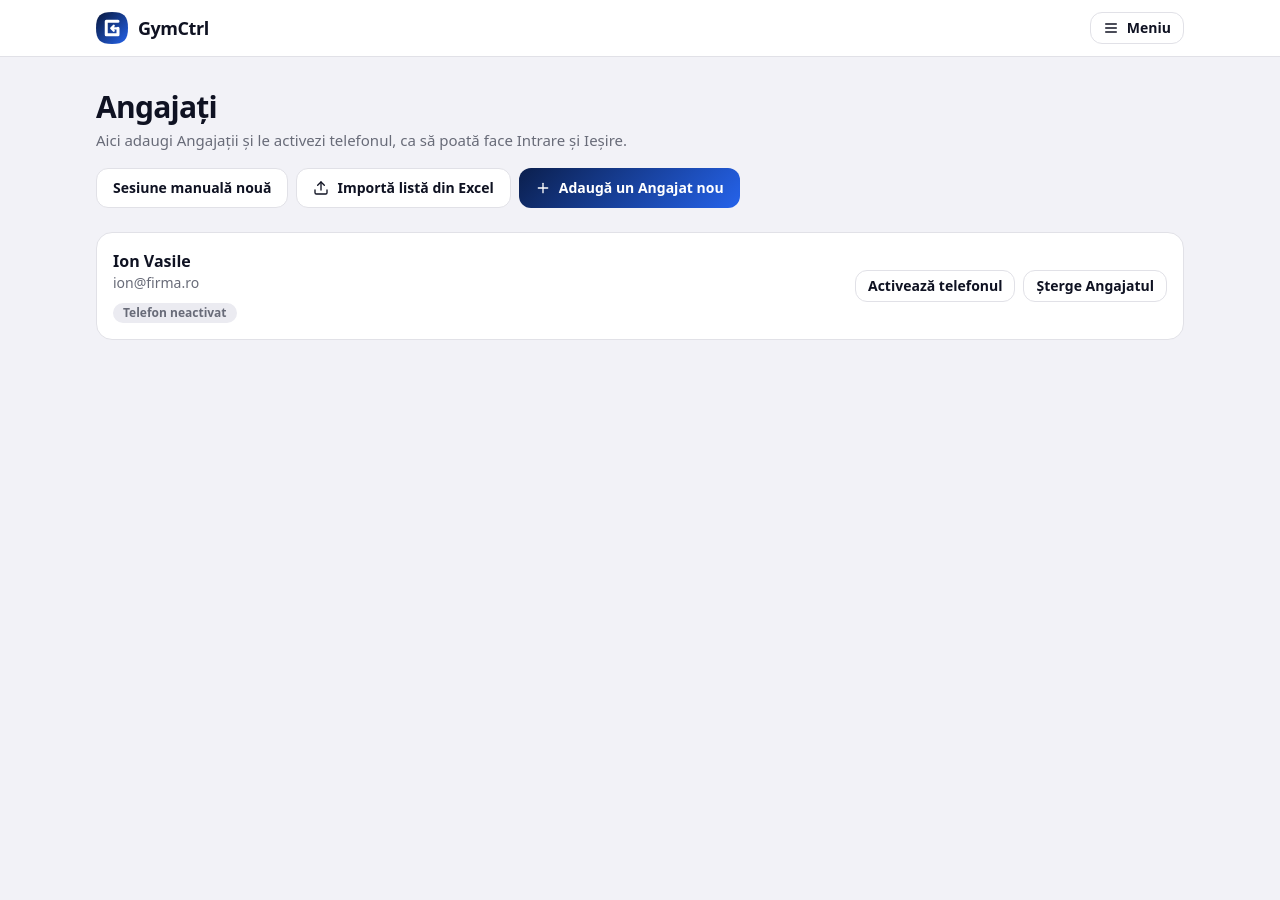
Test case: ecranul Angajați › arată eroarea serverului când Angajatul nu mai există
Click the button "Activează telefonul". click: (935, 286)
box: [855,270,1016,302]
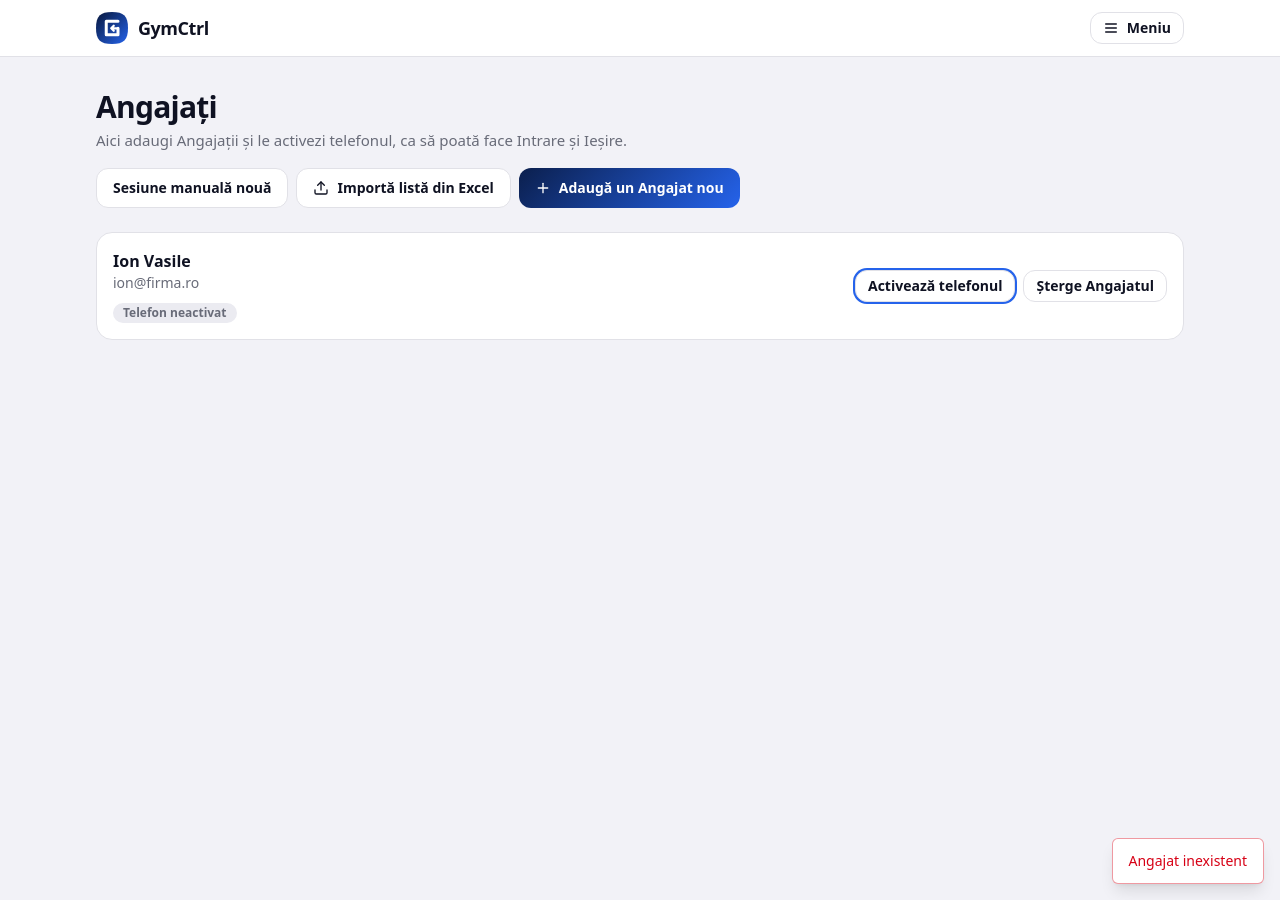
Check: the message reads "Angajat inexistent", box [1128,851,1247,870]
